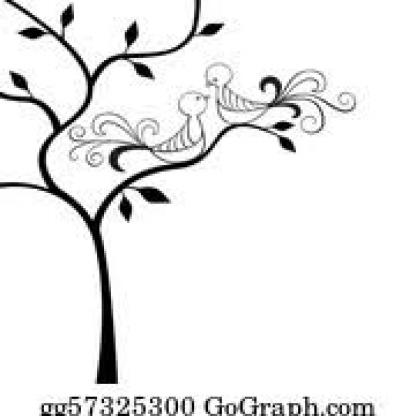bird: (202, 60, 288, 127), (150, 88, 210, 163)
branch_sharp: (1, 0, 272, 227)
trunk_straight: (88, 258, 123, 354)
